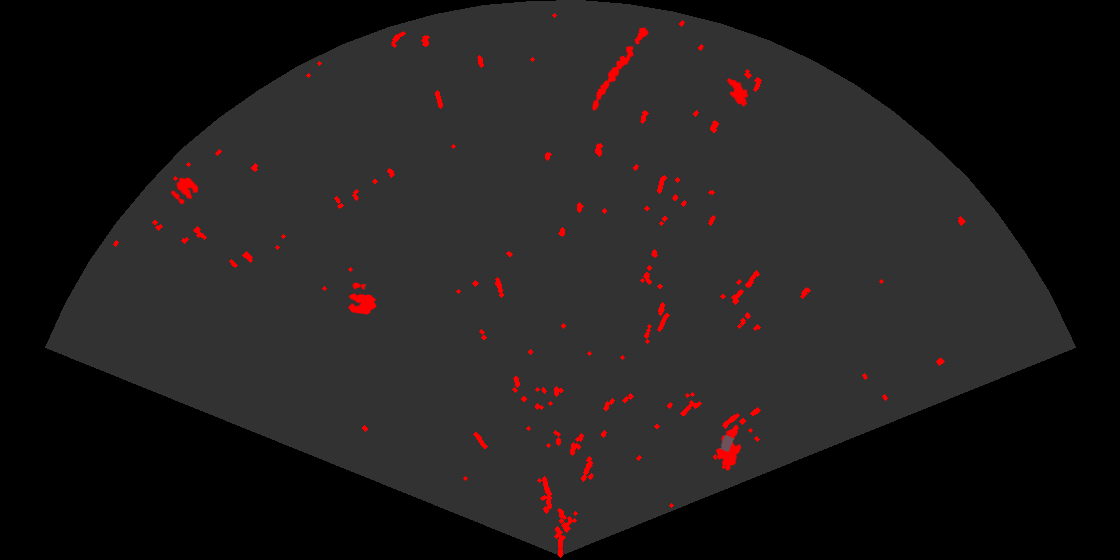AUV: (714, 423, 743, 472), (725, 76, 750, 108)
ball: (346, 281, 378, 316), (169, 176, 200, 206)
chain: (590, 26, 650, 112)
